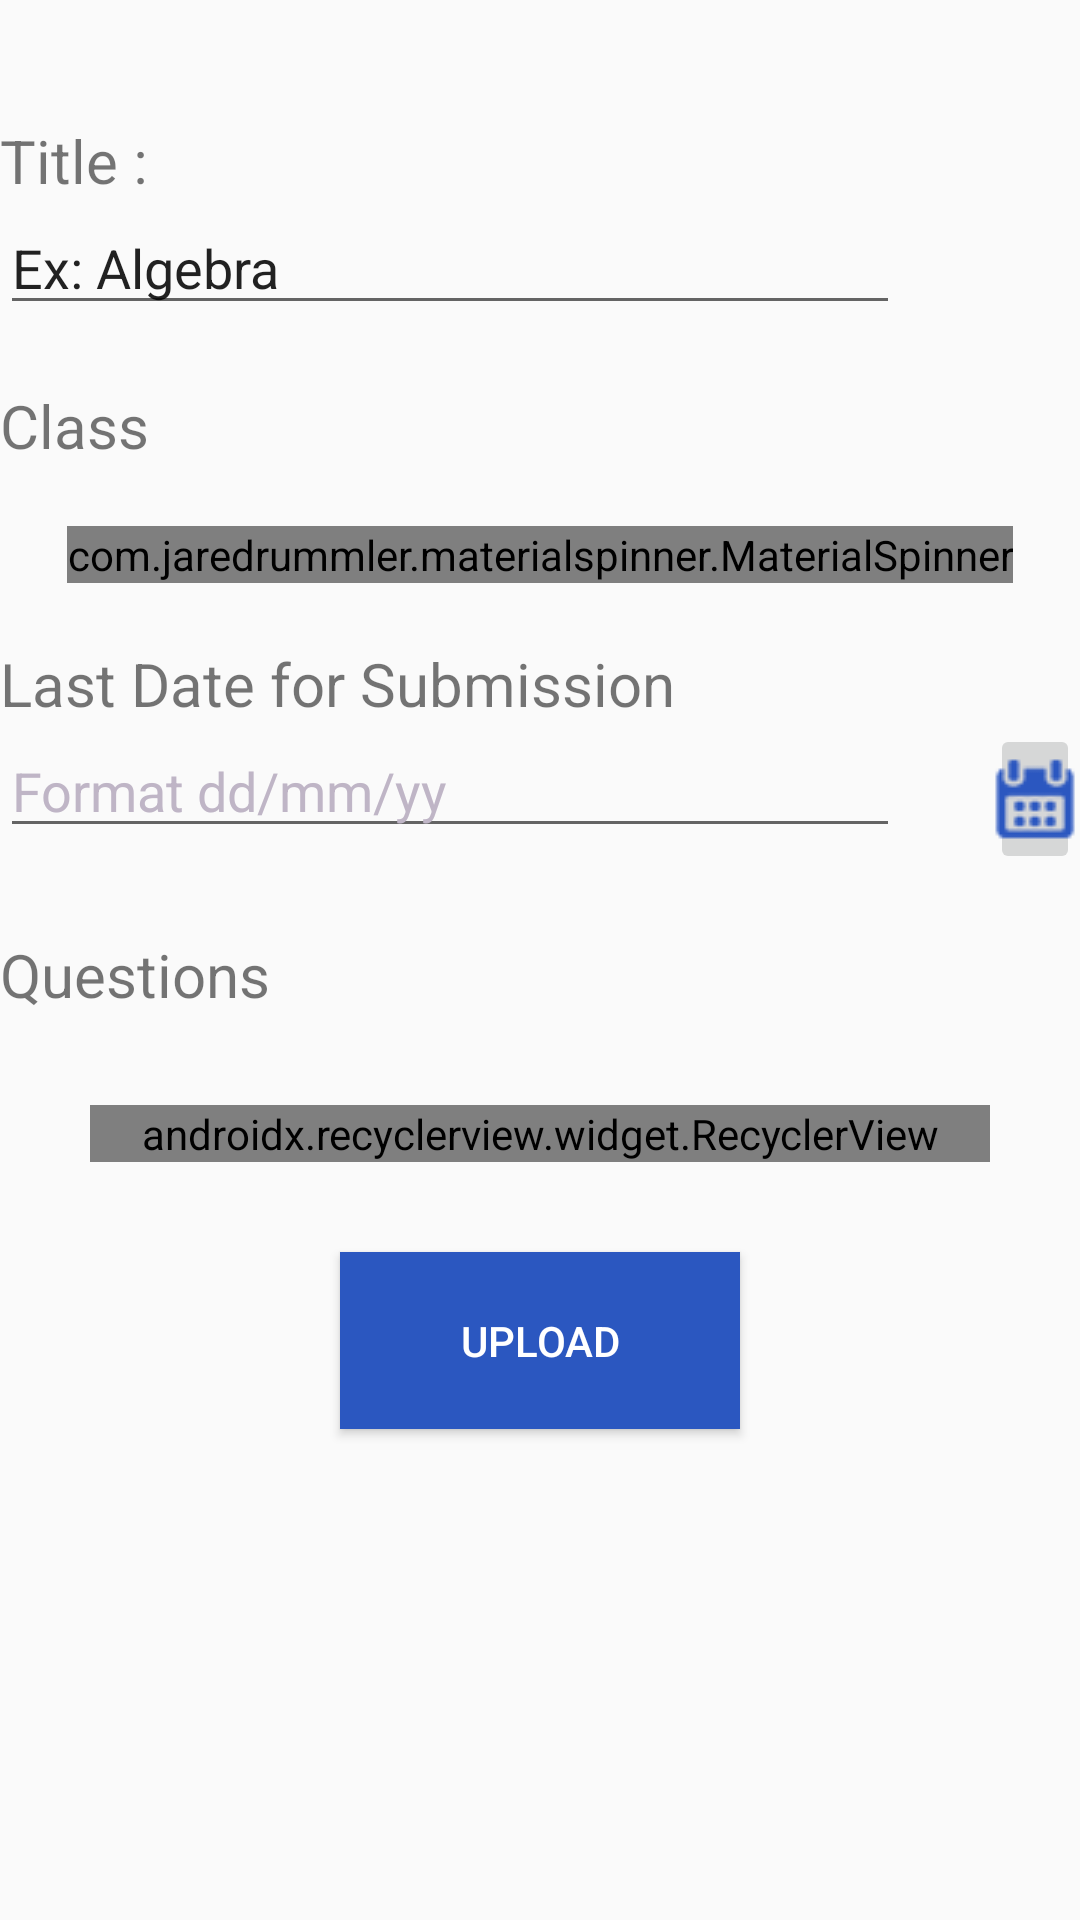

Screen size 1080w x 1920h. Icon name, then its box in pixels as Rect(x1, y1, x2, y2):
calendar: Rect(995, 742, 1075, 856)
